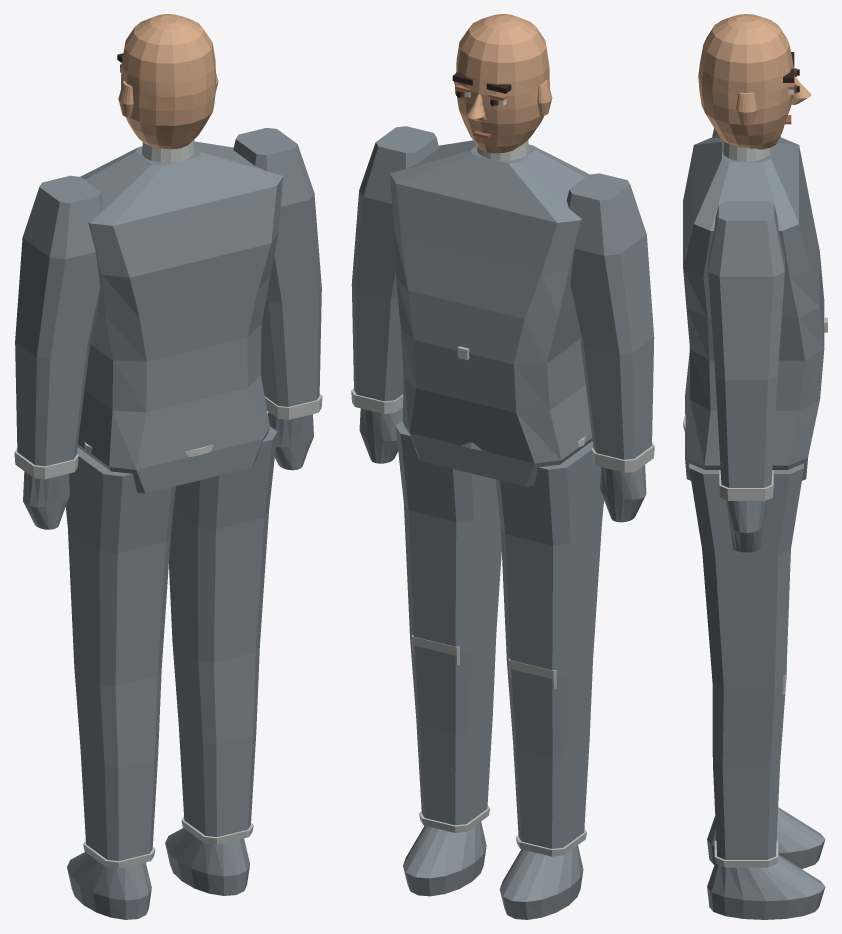
3 views of the same model, side by side, from view 1: azimuth 30°, elevation 25°; view 2: azimuth 150°, elevation 25°; view 3: azimuth 270°, elevation 25° (orthographic).
Parts seen in each view (by area): view 1: 衣身腹段替换槽 · adultA, 孕期腹部造型替换件 · early, 精细成年头部母版; view 2: 衣身腹段替换槽 · adultA, 孕期腹部造型替换件 · early, 精细成年头部母版; view 3: 衣身腹段替换槽 · adultA, 孕期腹部造型替换件 · early, 精细成年头部母版.
Boxes of the visible parts, bbox=[...] form: 衣身腹段替换槽 · adultA: bbox=[14, 127, 322, 919]; 孕期腹部造型替换件 · early: bbox=[78, 232, 278, 469]; 精细成年头部母版: bbox=[117, 14, 218, 149]; 衣身腹段替换槽 · adultA: bbox=[351, 126, 654, 919]; 孕期腹部造型替换件 · early: bbox=[394, 229, 592, 463]; 精细成年头部母版: bbox=[452, 14, 552, 153]; 衣身腹段替换槽 · adultA: bbox=[683, 128, 825, 919]; 孕期腹部造型替换件 · early: bbox=[683, 202, 827, 465]; 精细成年头部母版: bbox=[698, 14, 811, 149].
Bounding box in the file's own units: 0.5883 × 1.7 × 0.258.
Materials: 9 (9 with a texture image).
